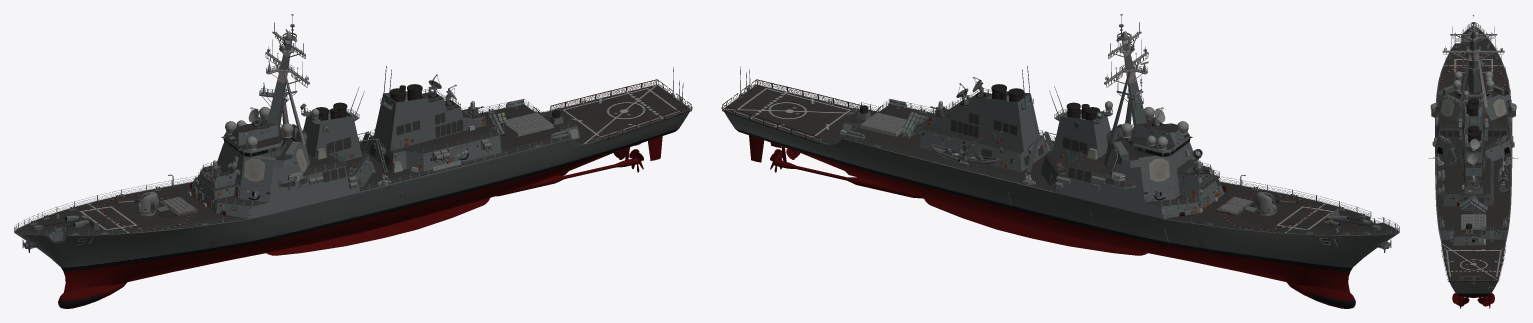
File: ddg51.glb
3 views of the same model, side by side, from view 1: azimuth 30°, elevation 25°; view 2: azimuth 150°, elevation 25°; view 3: azimuth 270°, elevation 25° (orthographic). The views are drawn at different scales.
Bounding box in the file's own units: 154 × 53.45 × 24.73.
5 materials, 5 textured.
